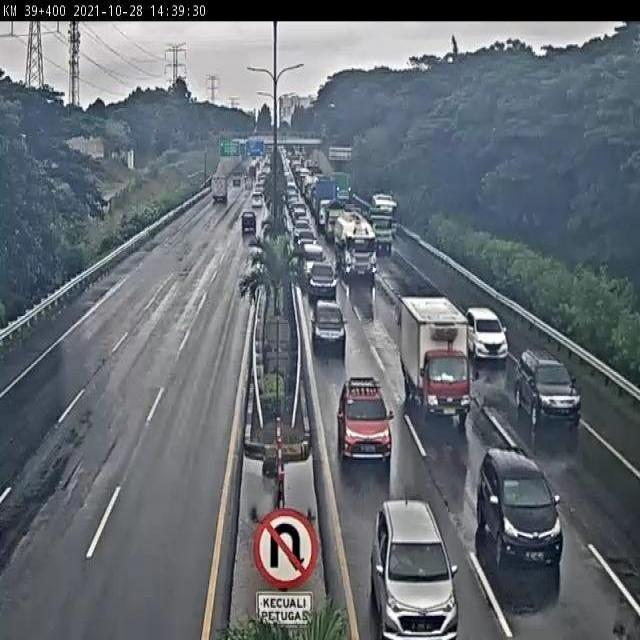big truck: (336, 208, 378, 283), (375, 213, 396, 255)
car: (376, 496, 464, 640), (478, 435, 563, 561), (334, 364, 394, 453), (515, 350, 583, 426), (465, 304, 509, 352), (311, 301, 346, 351), (307, 263, 337, 301)
small truck: (402, 291, 471, 409)
